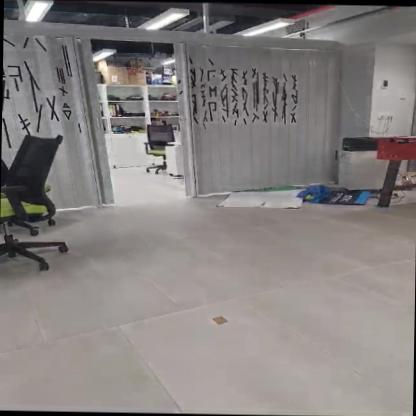open: (80, 39, 196, 200)
